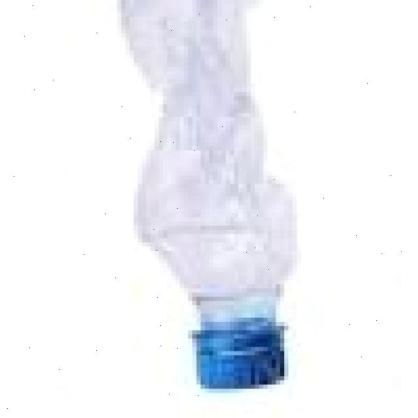bottle: (106, 0, 300, 398)
cap: (181, 311, 300, 393)
